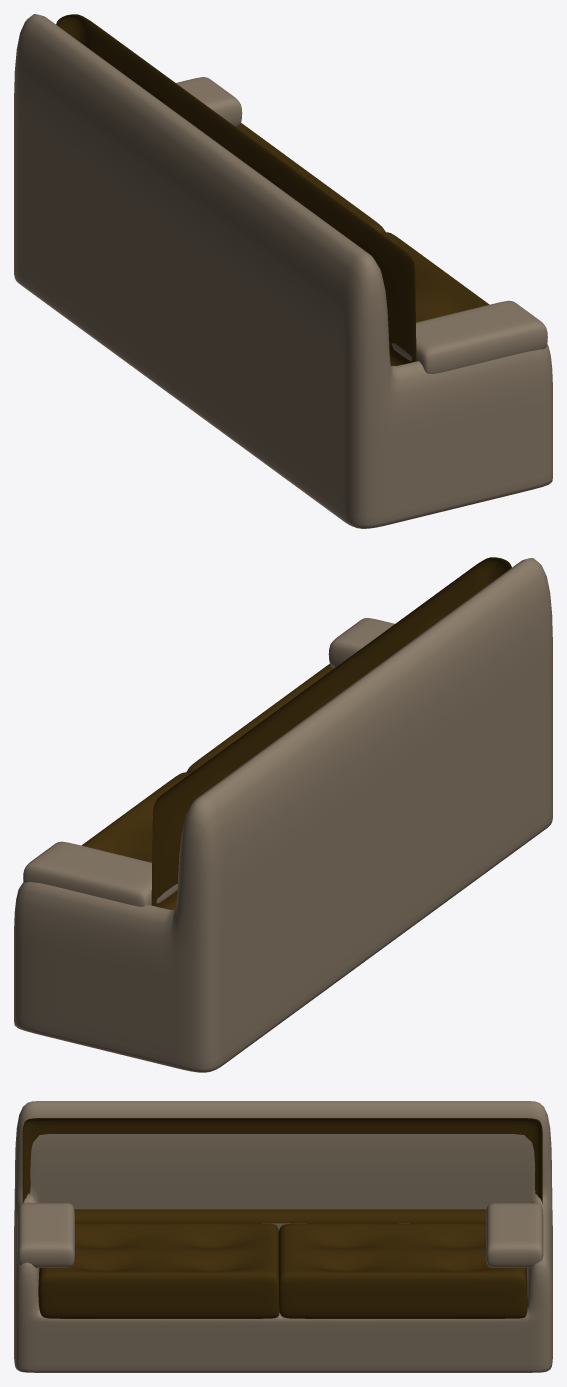
The model's file is couch.fbx.
3 views of the same model, one above another, from view 1: azimuth 30°, elevation 25°; view 2: azimuth 150°, elevation 25°; view 3: azimuth 270°, elevation 25° (orthographic). The views are drawn at different scales.
Parts seen in each view (by area): view 1: Plane, Plane.003, Plane.005, Plane.002, Plane.004, Plane.001; view 2: Plane, Plane.003, Plane.004, Plane.001, Plane.005, Plane.002; view 3: Plane, Plane.001, Plane.002, Plane.003, Plane.004, Plane.005.
Boxes of the visible parts, left/top/right/bottom form: Plane: left=14, top=14, right=552, bottom=528; Plane.003: left=56, top=14, right=416, bottom=365; Plane.005: left=392, top=300, right=547, bottom=373; Plane.002: left=381, top=232, right=489, bottom=322; Plane.004: left=176, top=77, right=242, bottom=127; Plane.001: left=237, top=123, right=385, bottom=232; Plane: left=14, top=558, right=552, bottom=1072; Plane.003: left=151, top=557, right=511, bottom=909; Plane.004: left=23, top=841, right=177, bottom=906; Plane.001: left=81, top=772, right=191, bottom=862; Plane.005: left=328, top=618, right=394, bottom=668; Plane.002: left=186, top=664, right=333, bottom=772; Plane: left=14, top=1101, right=552, bottom=1372; Plane.001: left=279, top=1223, right=527, bottom=1318; Plane.002: left=38, top=1223, right=279, bottom=1318; Plane.003: left=22, top=1118, right=542, bottom=1223; Plane.004: left=486, top=1203, right=543, bottom=1267; Plane.005: left=17, top=1203, right=74, bottom=1267.
Size of the model in its own units: 204 by 251 by 601.
